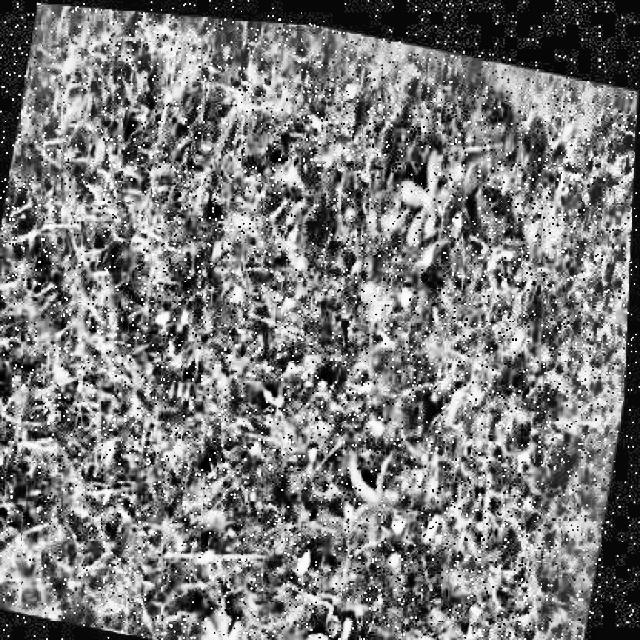Weeds: (338, 437, 414, 540), (390, 134, 458, 243), (302, 615, 364, 640)
